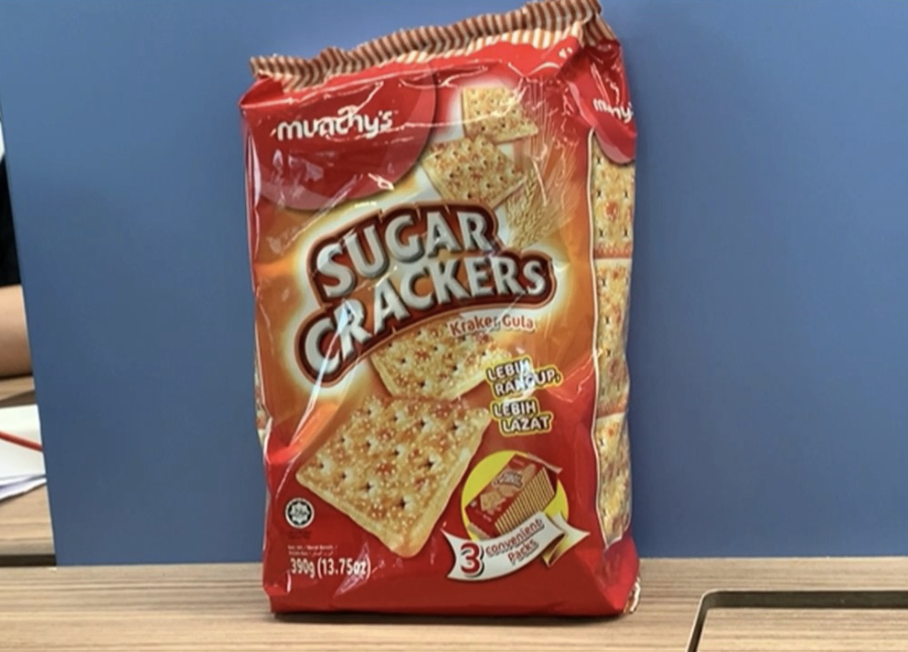crackers_450g: (269, 111, 602, 582)
